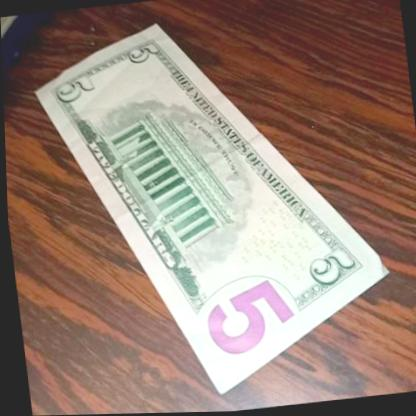five-back: (25, 0, 400, 400)
